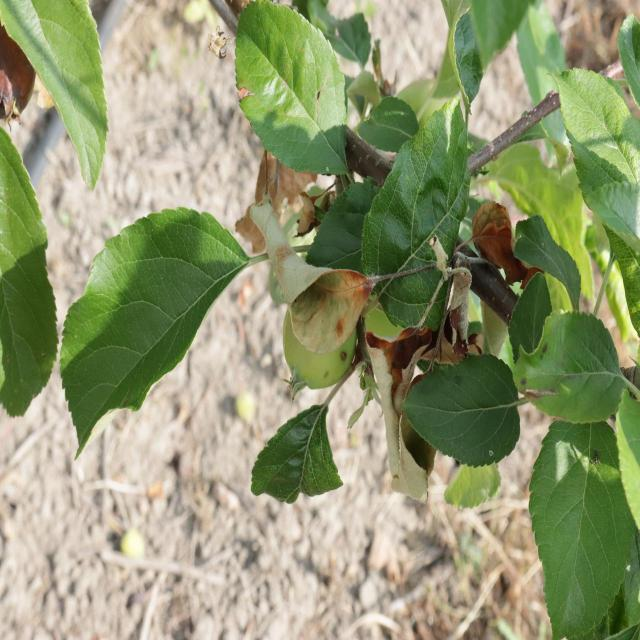-FireBlight-: (471, 203, 526, 281)
